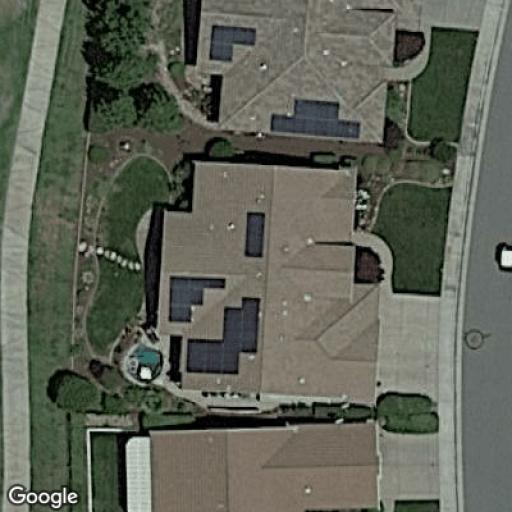solar-panel: (269, 96, 362, 140), (166, 273, 229, 325), (223, 291, 263, 357), (206, 20, 261, 65), (185, 335, 243, 377), (241, 208, 268, 260)
